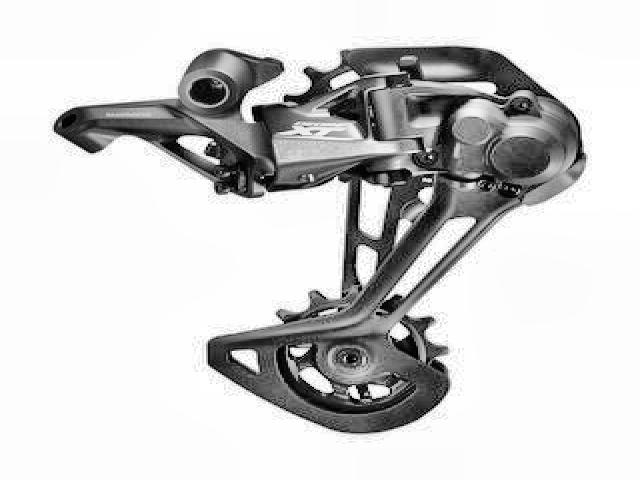rear_derailleur: (50, 41, 588, 438)
